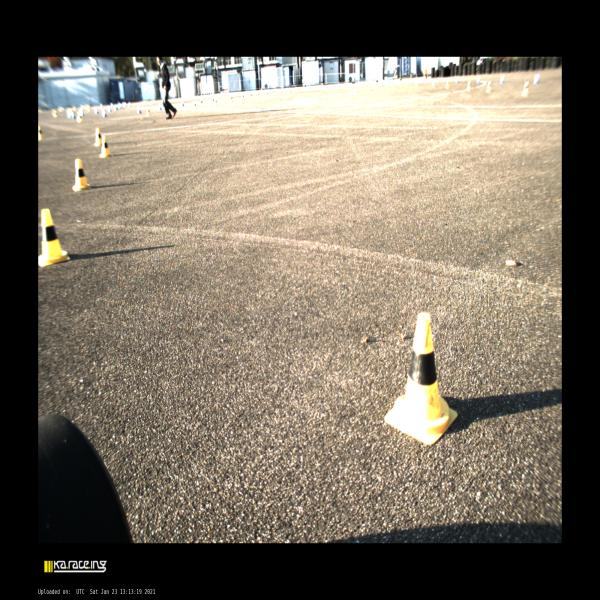blue_cone: (532, 73, 540, 84), (102, 108, 107, 118), (500, 74, 504, 84), (137, 105, 141, 114), (71, 111, 75, 119), (94, 107, 98, 114), (158, 103, 162, 110), (476, 76, 480, 83), (455, 76, 459, 83), (200, 98, 203, 103), (437, 76, 439, 82), (109, 106, 111, 112), (110, 103, 113, 107), (289, 86, 291, 92), (182, 101, 184, 106), (212, 97, 214, 101), (266, 90, 268, 94), (250, 93, 252, 96), (272, 90, 274, 92)
yellow_cone: (384, 313, 458, 445), (38, 209, 70, 267), (73, 159, 90, 191), (98, 136, 112, 158), (94, 128, 101, 146), (521, 80, 528, 96), (38, 124, 43, 140), (486, 81, 491, 93), (145, 107, 151, 116), (466, 79, 470, 92), (77, 112, 82, 122), (52, 109, 57, 117), (446, 80, 450, 89), (431, 80, 435, 88), (88, 104, 91, 112), (194, 102, 197, 109), (215, 100, 218, 106), (242, 94, 245, 100), (230, 97, 233, 102), (258, 92, 260, 97), (298, 87, 300, 92)
